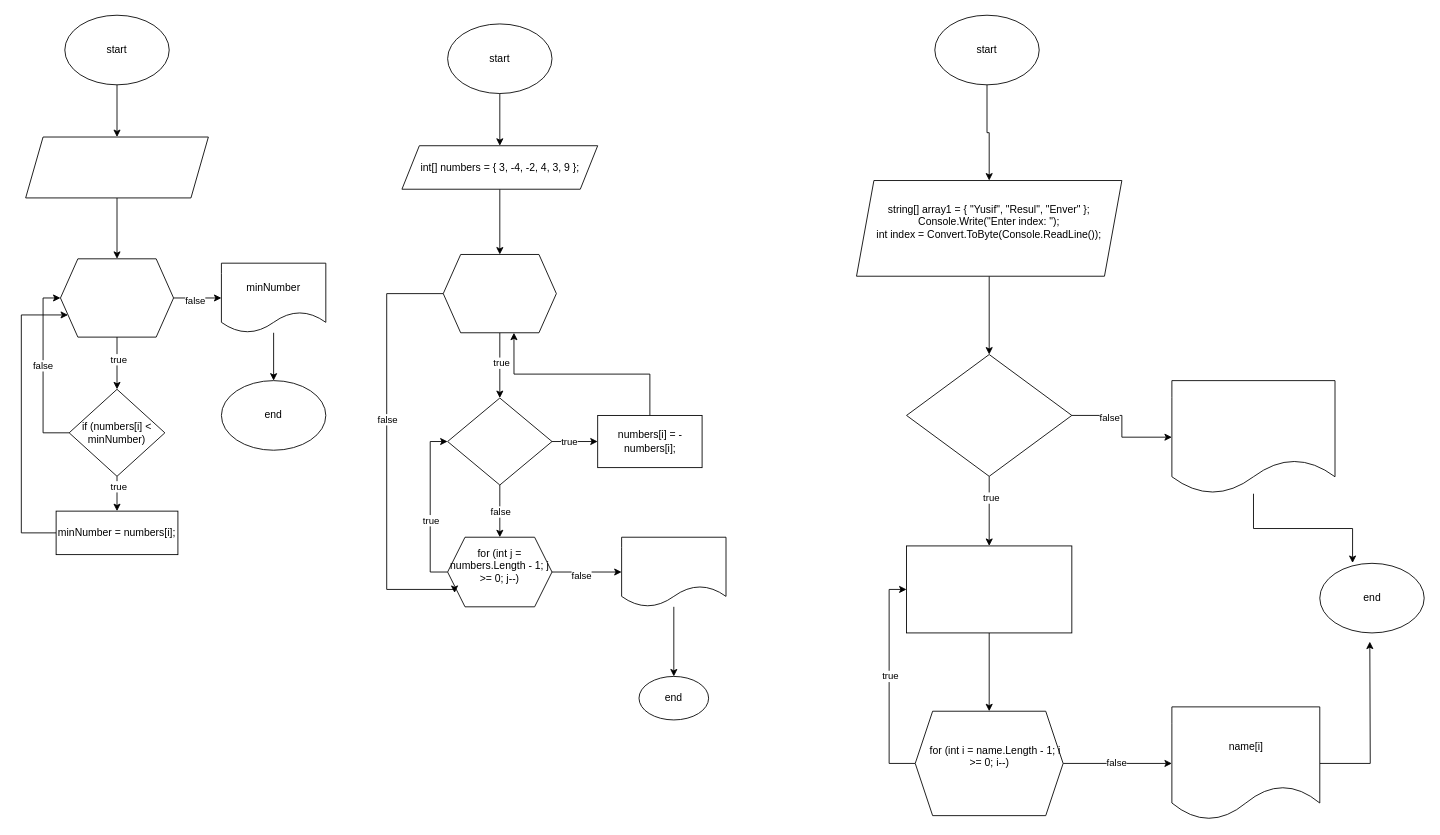
Some shapes in this 1440 by 835 pixel diagram are drawn without their labels. The centre of each missing label's shape, as x and y in pixels:
"Duzgun deyer daxil edin" goes at (1253,437).
"for (int i = 0; i < numbers.Length; i++)" goes at (499,293).
"for(int i = 1; i<numbers.Length; i++)" goes at (117,297).
"if (index < array1.Length)" goes at (989,415).
"if (numbers[i] < 0)" goes at (499,441).
"int[] numbers = { 23, 43, 53, 27, 3, 6 }; int minNumber = numbers[0];" goes at (116,167).
"numbers[j]" goes at (673,571).
"string name = array1[index];" goes at (989,589).
